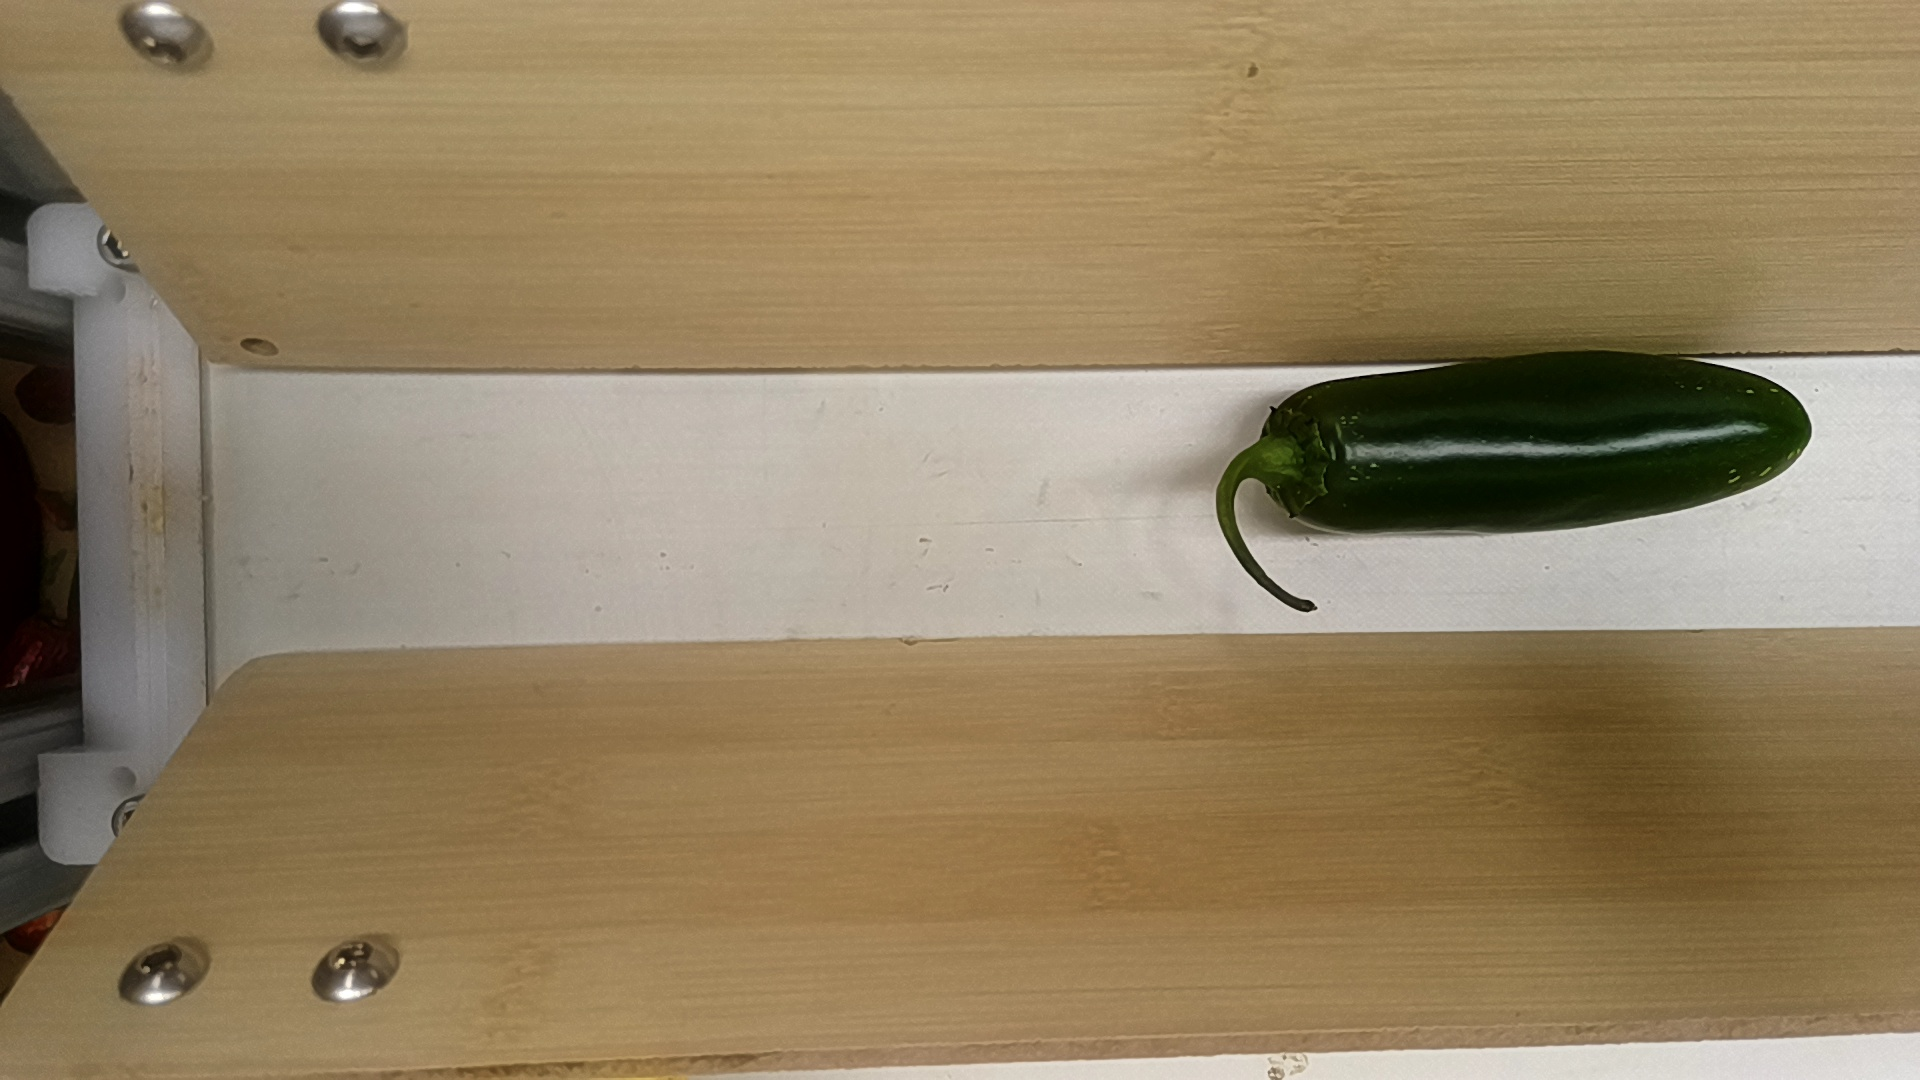Cut Point: (1255, 375, 1353, 545)
